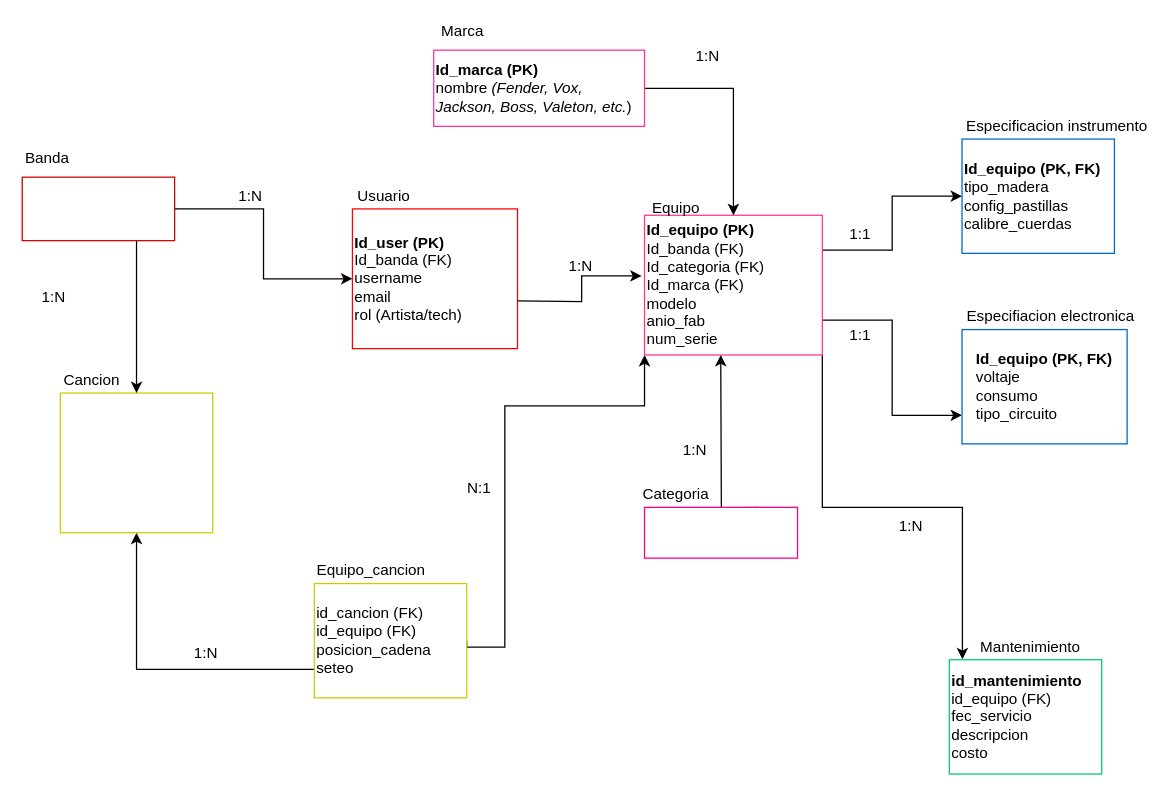
This 1175x796 diagram has some shape labels left out. The centre of each missing label's shape, as x and y in pixels:
Id_banda (PK) nombre fecha_registro: point (98, 208)
Id_cancion (PK) Id_banda titulo artista bpm tonalidad duracion: point (136, 462)
Id_categoria (PK) nombre: point (720, 532)
